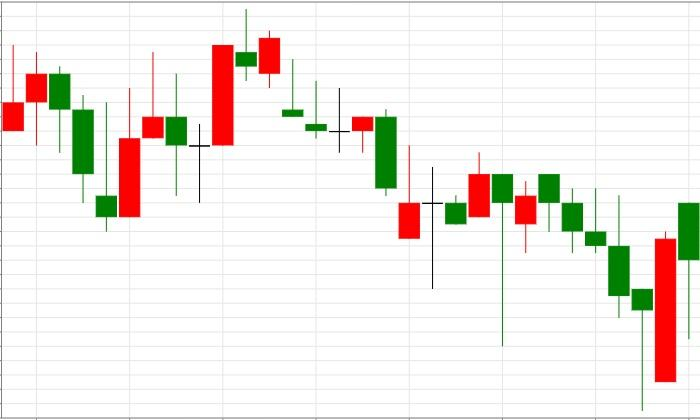hammer_rise: (539, 174, 654, 411)
hanging_man_fall: (421, 152, 514, 346)
three_black_crows_fall: (1, 45, 117, 231)
